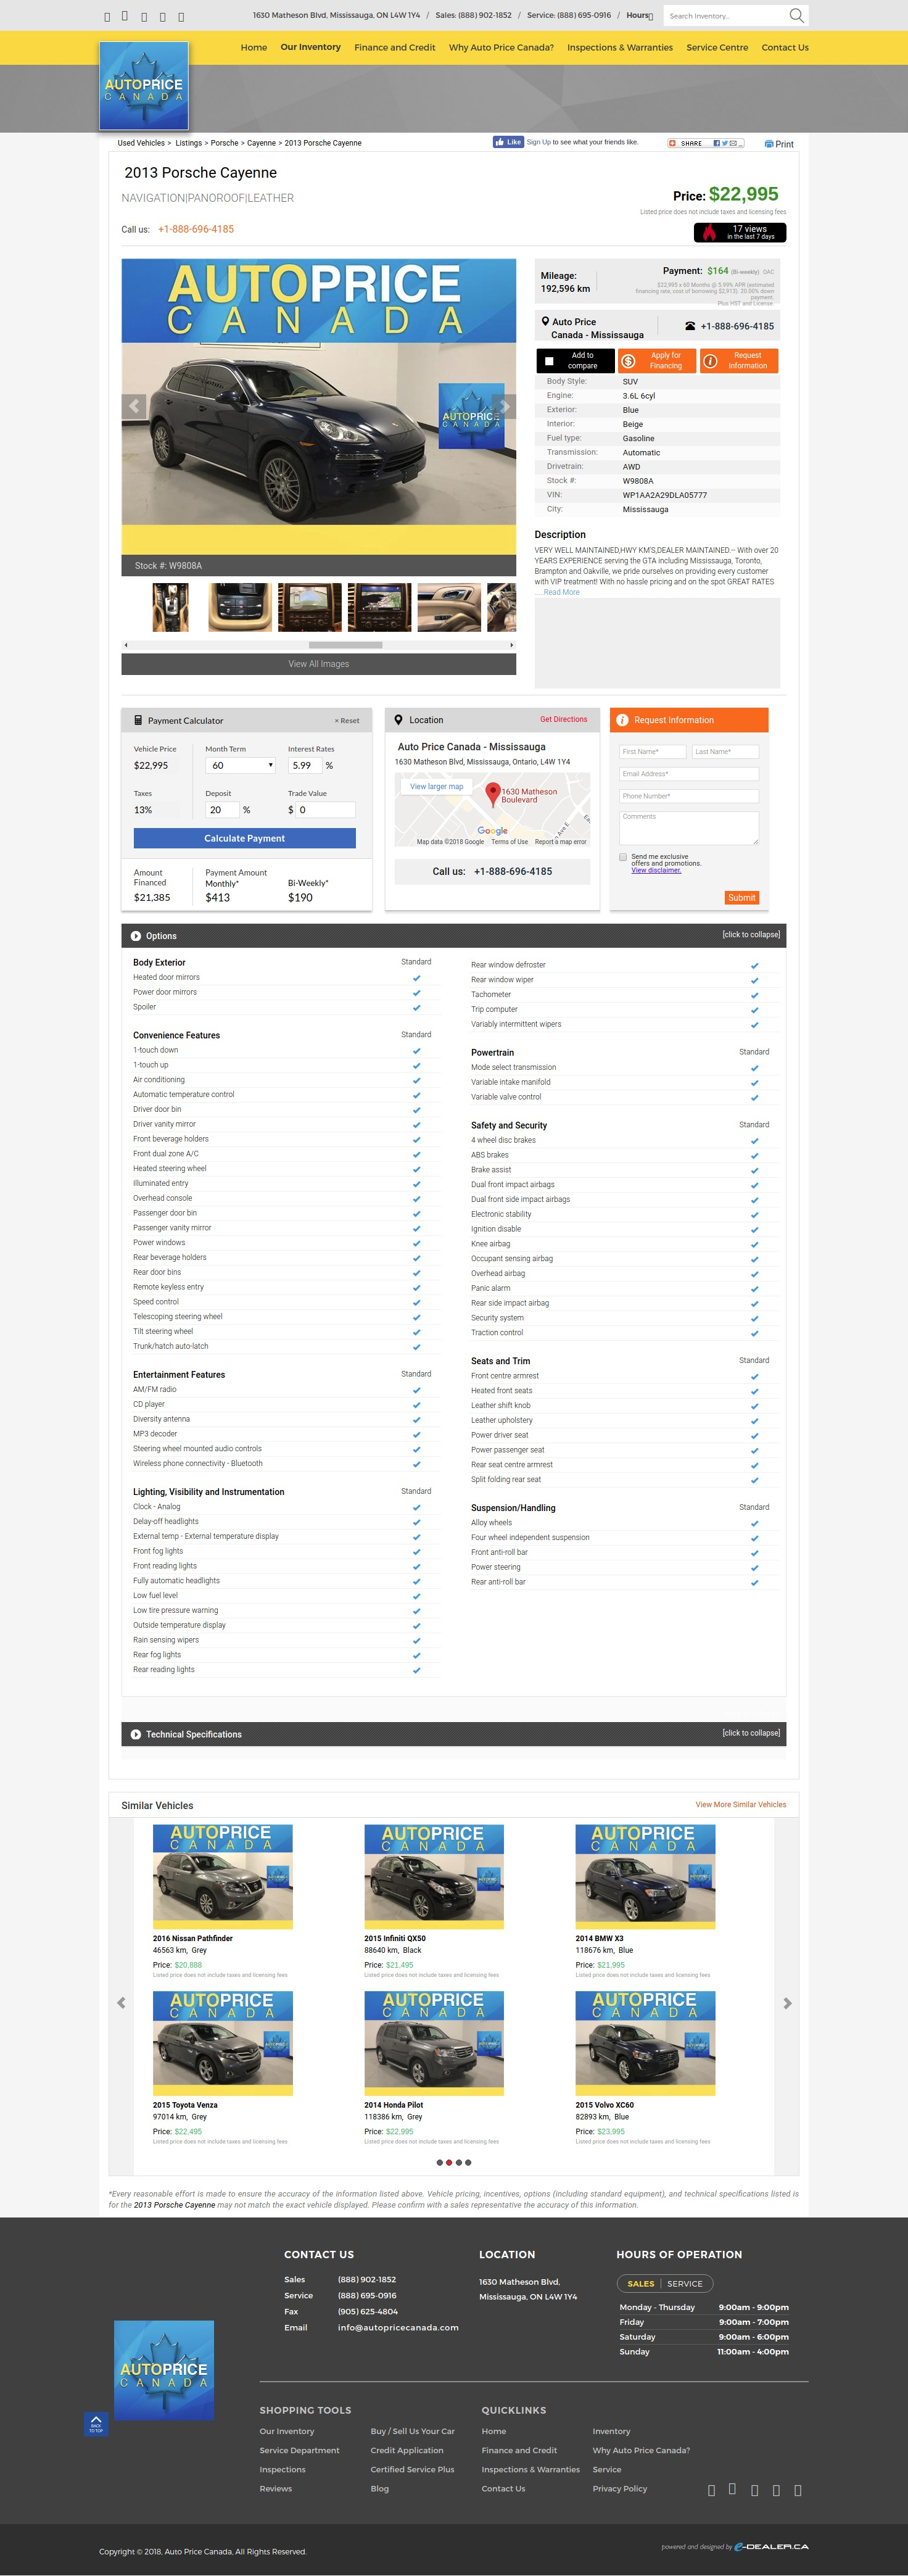car: (511, 642, 514, 649)
